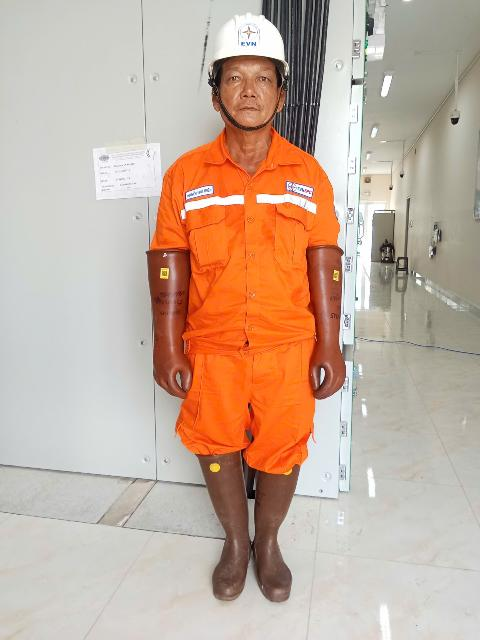gloves: (285, 229, 358, 406), (143, 231, 208, 422)
helmet: (191, 18, 296, 80)
shoes: (181, 425, 251, 608), (244, 443, 307, 605)
